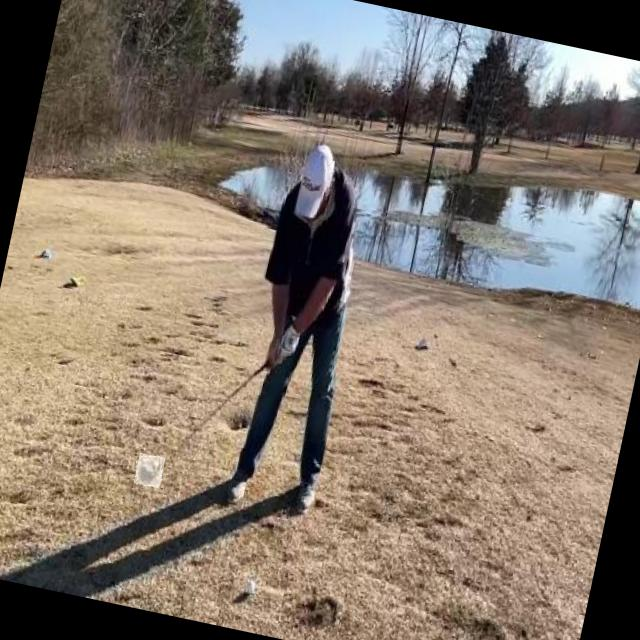club head: (133, 452, 165, 488)
